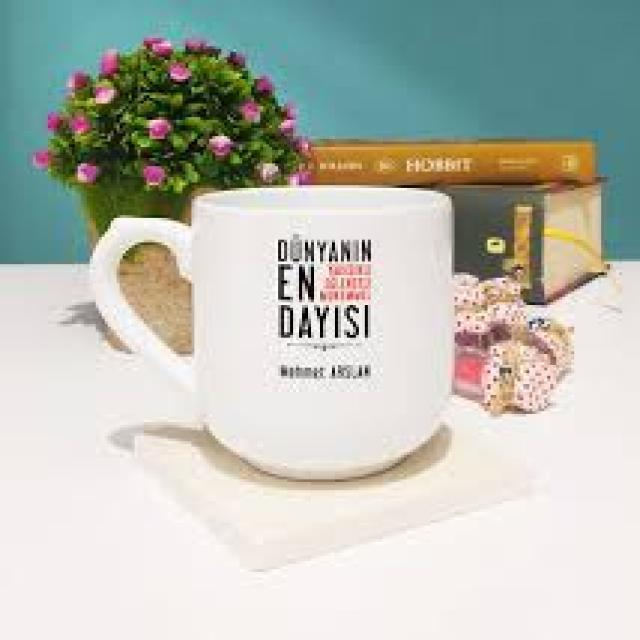taza: (90, 182, 454, 480)
